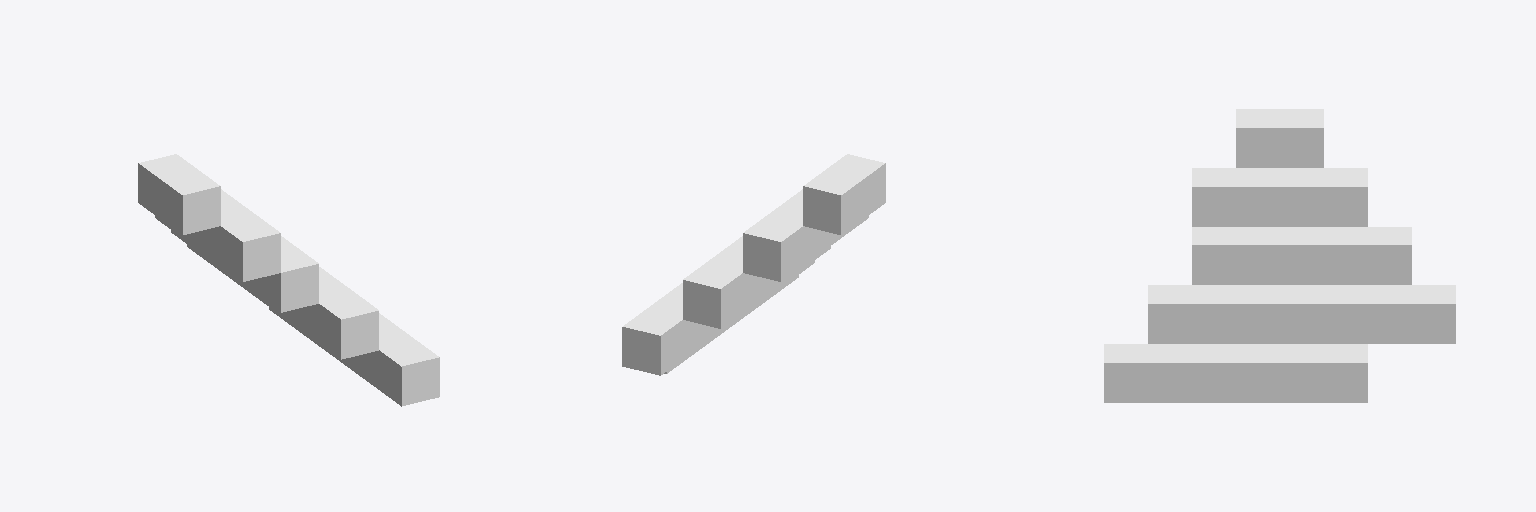
Rendered from YellowHouseParts-95.obj.
3 renders of one model, left to right at view 1: azimuth 30°, elevation 25°; view 2: azimuth 150°, elevation 25°; view 3: azimuth 270°, elevation 25°, orthographic.
Visible parts, largest first — view 1: object 1; view 2: object 1; view 3: object 1.
Part boxes in pixels (bbox=[...]): object 1: bbox=[138, 154, 439, 406]; object 1: bbox=[622, 154, 885, 375]; object 1: bbox=[1104, 109, 1455, 402].
Size of the model in its own units: 0.5 by 0.5 by 0.8.